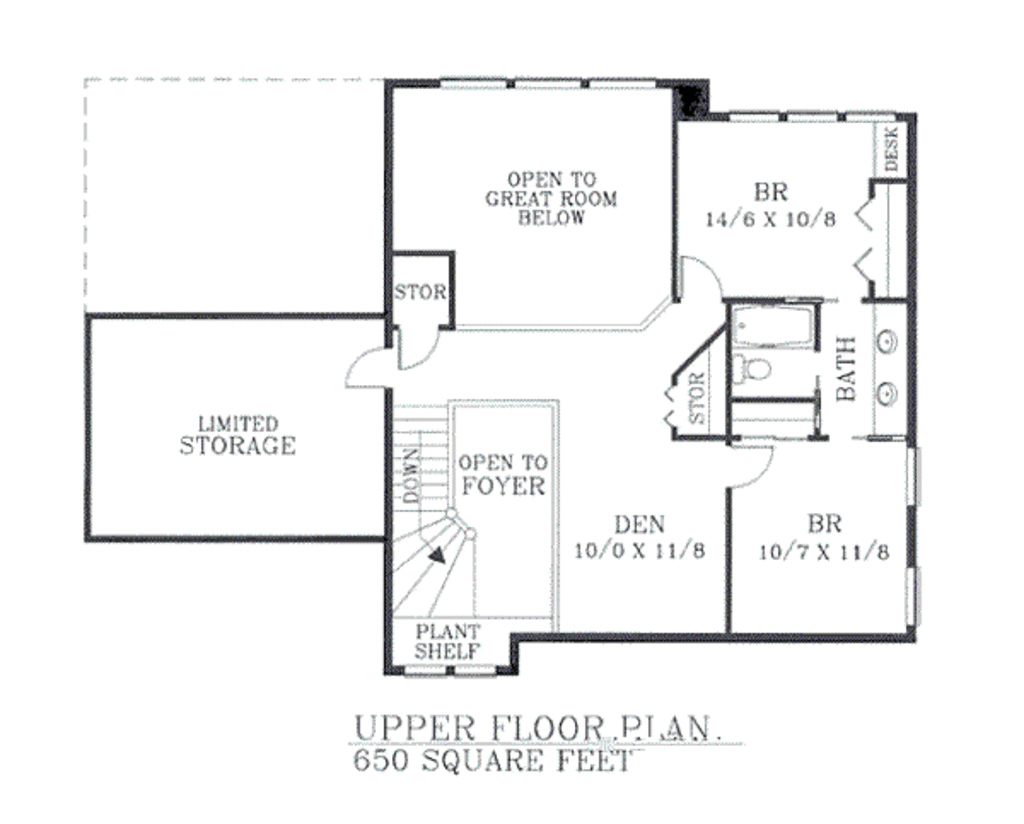door: (336, 341, 405, 396), (722, 444, 786, 493), (676, 246, 728, 302), (392, 319, 446, 368)
large_sink: (730, 351, 780, 391)
small_sink: (871, 296, 910, 436)
stairs: (392, 401, 561, 614)
tub: (731, 288, 825, 356)
window: (590, 71, 663, 92), (513, 72, 583, 92), (902, 446, 923, 506), (786, 107, 846, 127), (903, 568, 920, 629), (435, 76, 508, 88), (456, 658, 497, 678), (731, 108, 781, 124), (848, 108, 898, 124), (407, 666, 443, 677)
